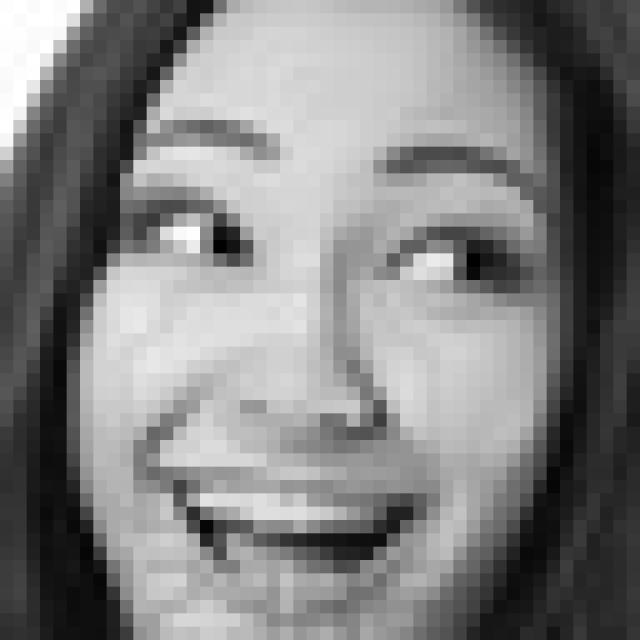happy: (125, 110, 547, 630)
